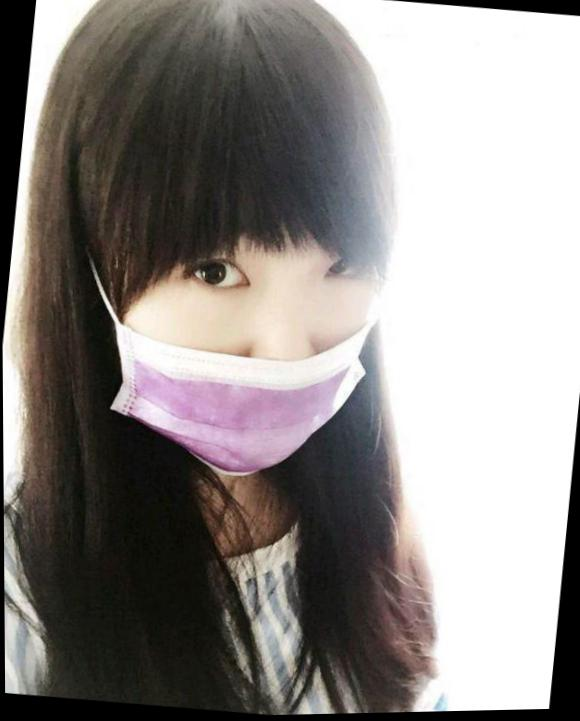WRONG: (93, 186, 398, 494)
